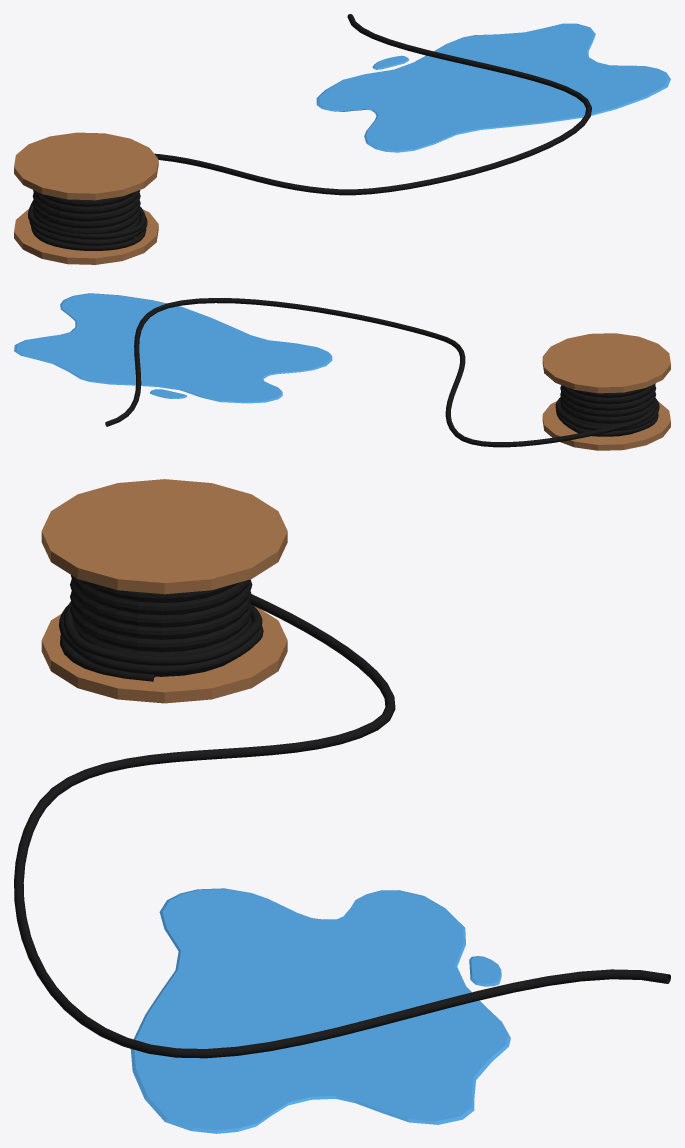
The model's file is Vungnuoc.fbx.
The picture shows the model from 3 angles, top to bottom: view 1: azimuth 30°, elevation 25°; view 2: azimuth 150°, elevation 25°; view 3: azimuth 270°, elevation 25°; orthographic projection. The views are drawn at different scales.
Visible parts, largest first — view 1: Nuoc, Cuon day cap; view 2: Nuoc, Cuon day cap; view 3: Nuoc, Cuon day cap.
Part boxes in pixels (x1,y1,x2,y2): Nuoc: (316,23,670,152); Cuon day cap: (14,14,591,264); Nuoc: (14,293,332,403); Cuon day cap: (105,298,670,450); Nuoc: (130,888,510,1133); Cuon day cap: (14,479,670,1058).
Size of the model in its own units: 6359 by 657 by 3252.
